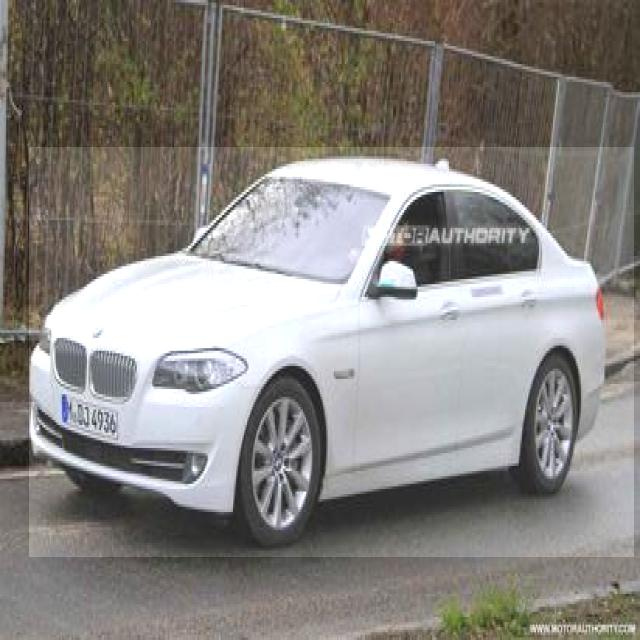Car: (29, 147, 634, 557)
